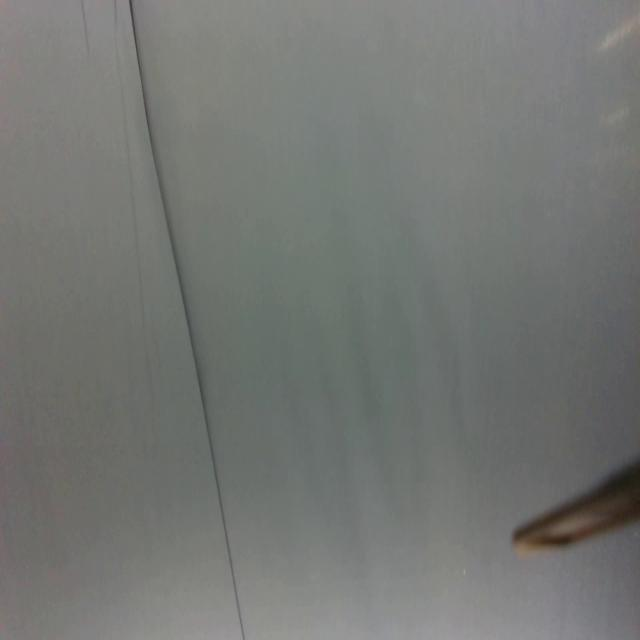crease: (130, 0, 244, 640), (112, 0, 154, 384), (80, 0, 95, 61)
